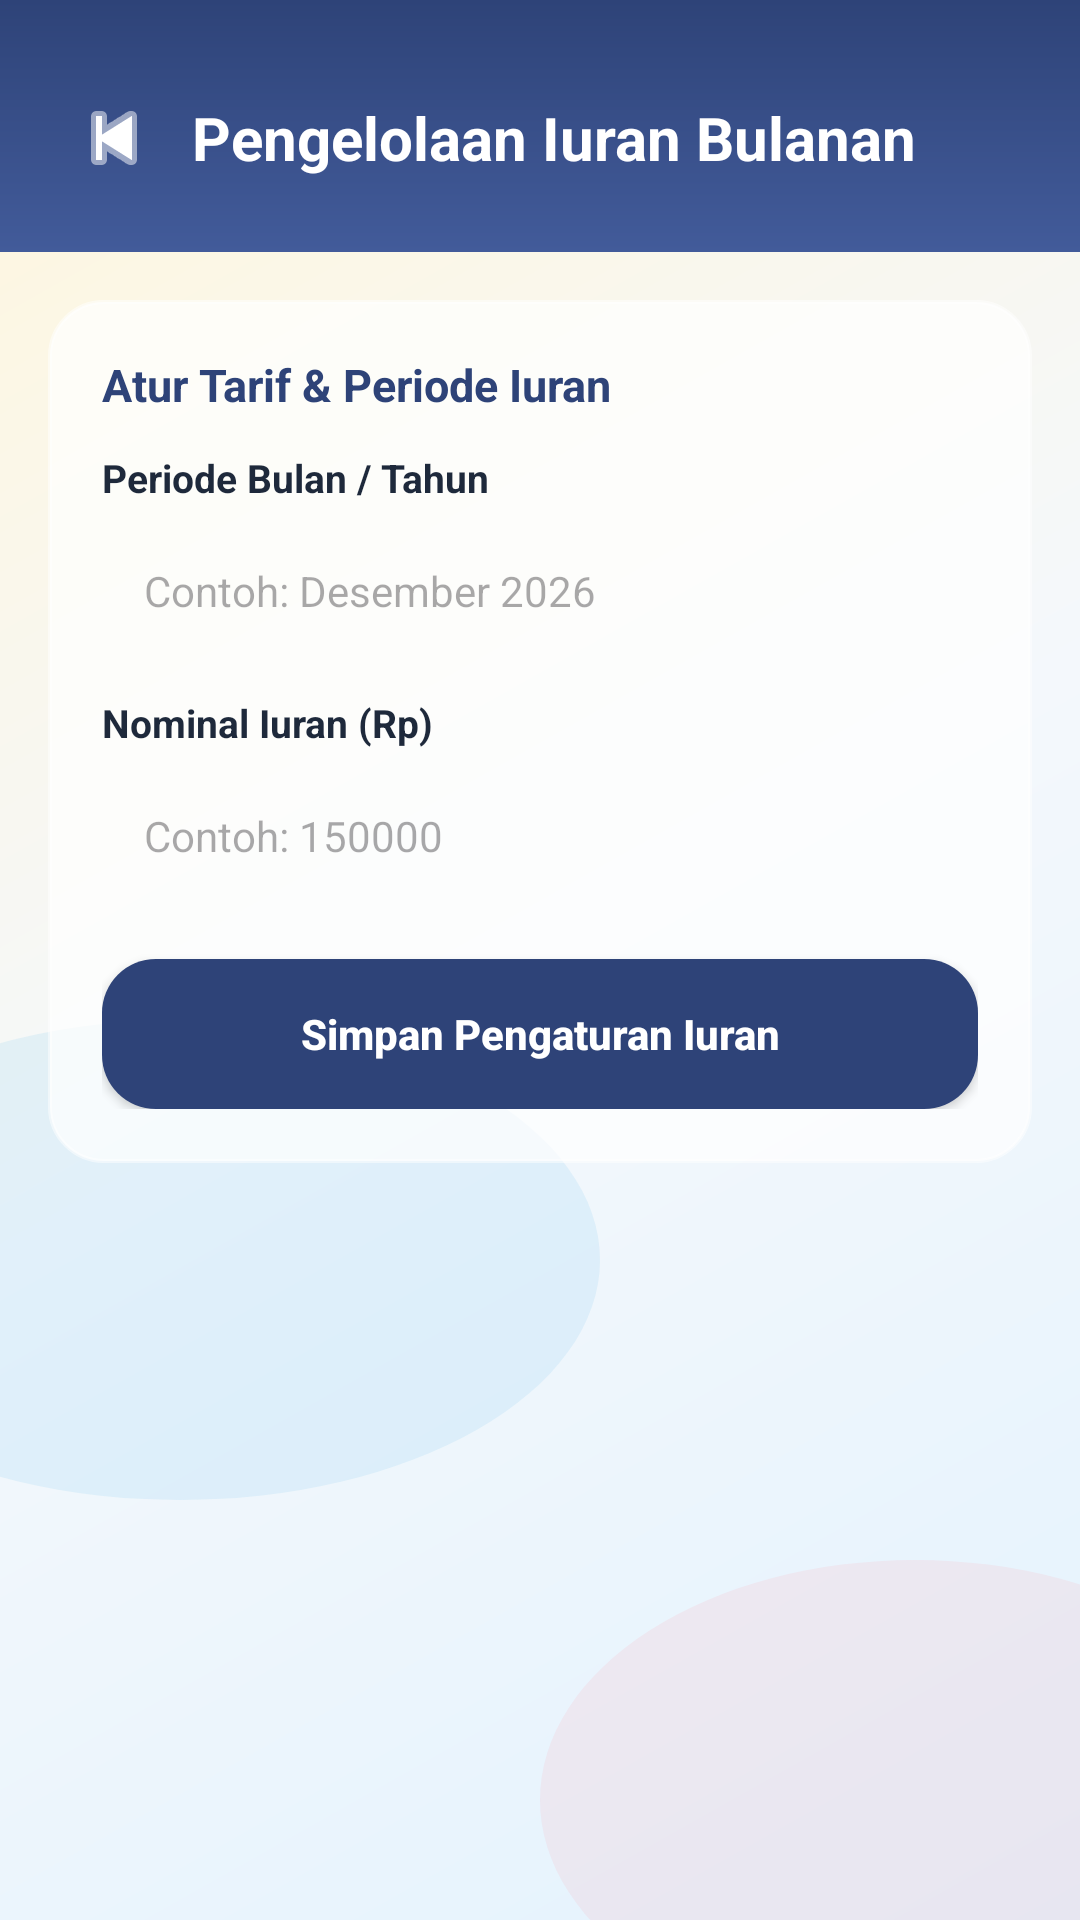

Screen size 1080×1920. Icon name, then its center in pixels as (x,y):
Kembali: (114,138)
